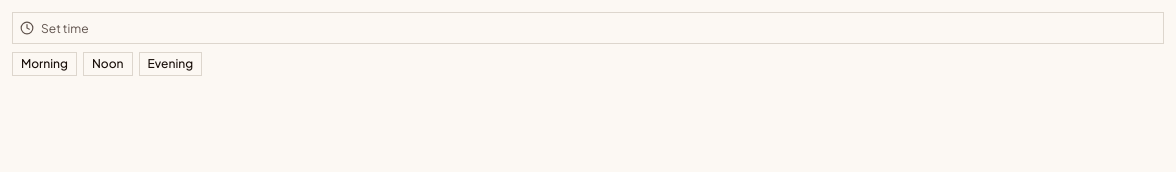
Test: TimePicker › Presets › updates input value when preset is clicked
Click the button with test id "time-picker-preset-noon" at (108, 64), box [83, 52, 132, 76]
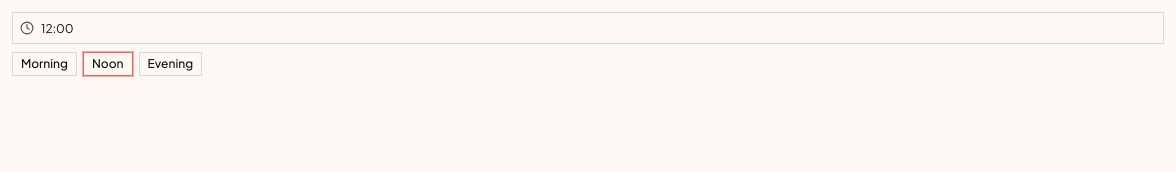
Now the field with test id "time-picker-input" holds "12:00", box [12, 12, 1164, 44]
